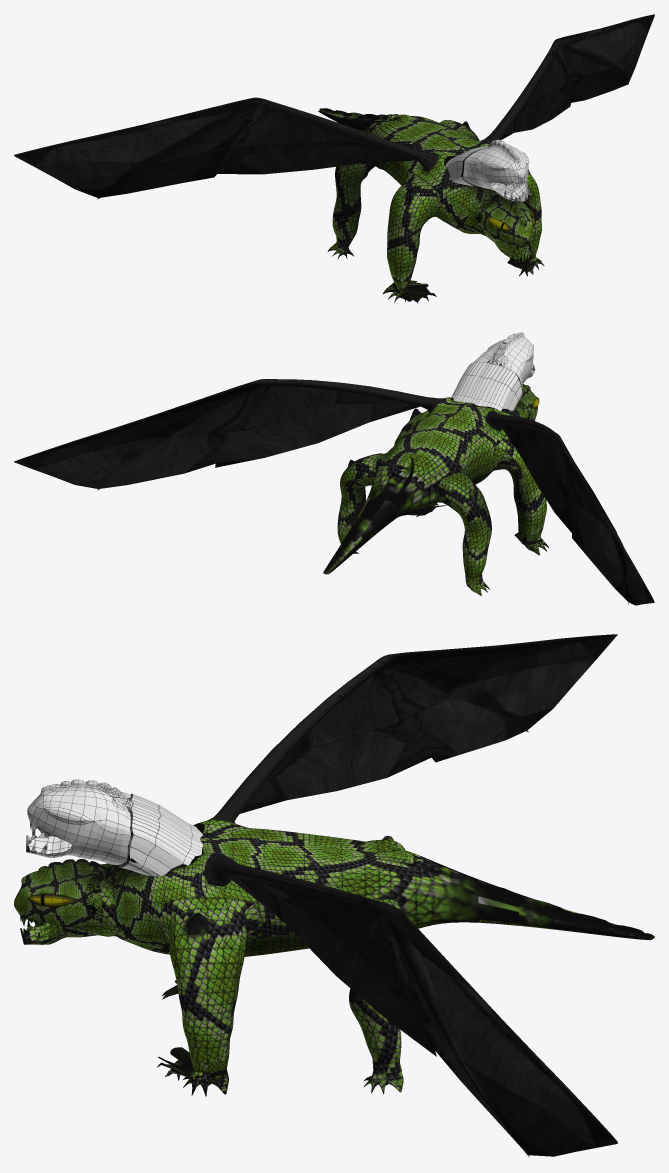
The model's file is monster_000033.obj.
3 renders of one model, top to bottom at view 1: azimuth 30°, elevation 25°; view 2: azimuth 150°, elevation 25°; view 3: azimuth 270°, elevation 25°, orthographic. The views are drawn at different scales.
Parts seen in each view (by area): view 1: body_Cube, secondHead_Cube.002; view 2: body_Cube, secondHead_Cube.002; view 3: body_Cube, secondHead_Cube.002.
Boxes of the visible parts, x1,y1,x2,y2 form: body_Cube: (14,14,654,303); secondHead_Cube.002: (445,139,530,202); body_Cube: (14,379,654,605); secondHead_Cube.002: (451,332,535,410); body_Cube: (14,634,654,1157); secondHead_Cube.002: (26,779,203,876).
Size of the model in its own units: 9.84 by 2.59 by 5.51.
